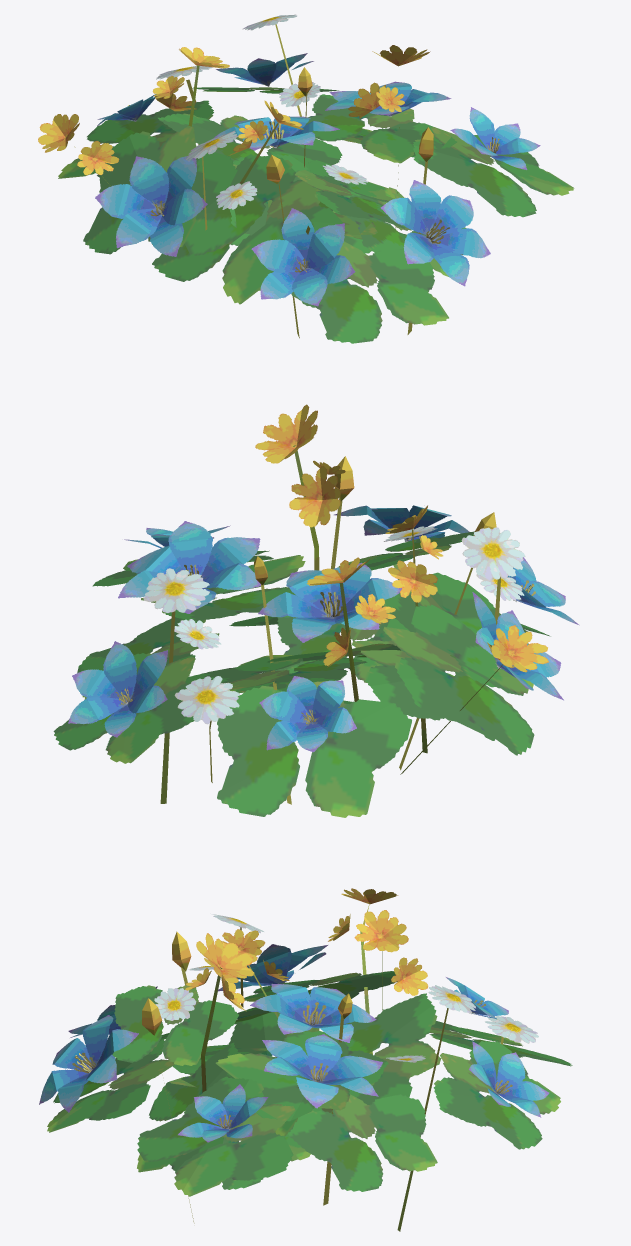
File: gi-Flower_Blue_01.glb
3 renders of one model, top to bottom at view 1: azimuth 30°, elevation 25°; view 2: azimuth 150°, elevation 25°; view 3: azimuth 270°, elevation 25°, orthographic. The views are drawn at different scales.
Parts seen in each view (by area): view 1: gi-Flower_Blue_01; view 2: gi-Flower_Blue_01; view 3: gi-Flower_Blue_01.
Boxes of the visible parts, x1=… form: gi-Flower_Blue_01: x1=38, y1=14, x2=574, y2=343; gi-Flower_Blue_01: x1=53, y1=404, x2=579, y2=817; gi-Flower_Blue_01: x1=39, y1=888, x2=572, y2=1231.
Size of the model in its own units: 0.8919 by 0.5146 by 0.958.
Materials: 1 (1 with a texture image).
